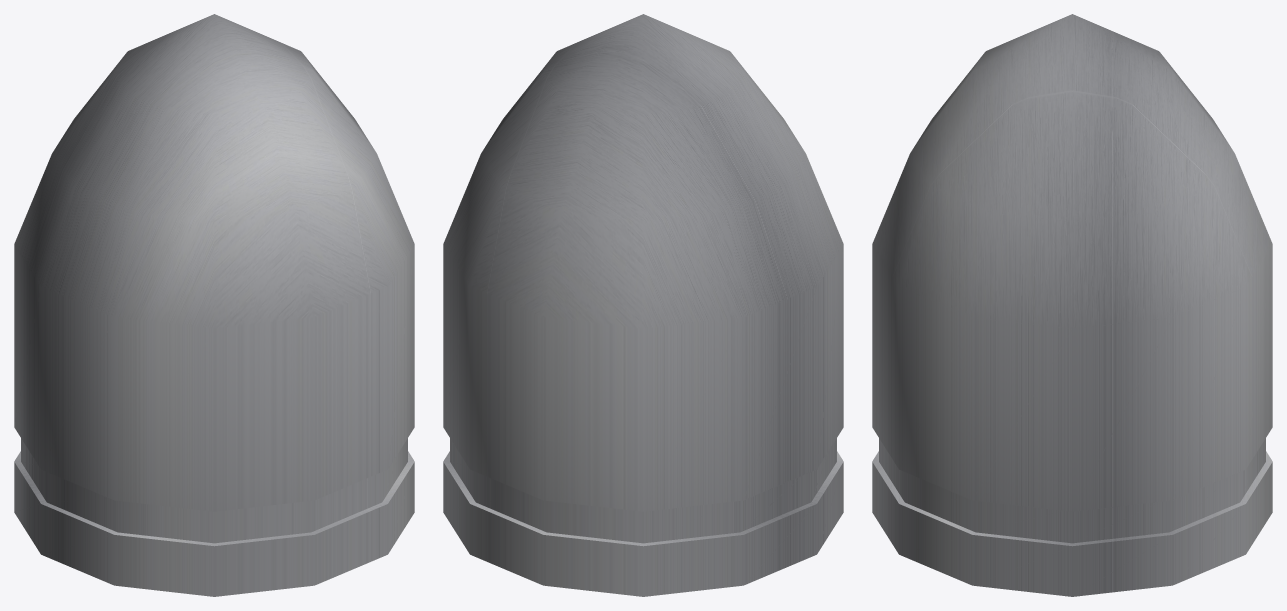
The model's file is Heavybullet.FBX.
The picture shows the model from 3 angles, left to right: view 1: azimuth 30°, elevation 25°; view 2: azimuth 150°, elevation 25°; view 3: azimuth 270°, elevation 25°; orthographic projection.
Visible parts, largest first — view 1: Sphere001; view 2: Sphere001; view 3: Sphere001.
Part boxes in pixels (box(x1,y1,x2,y2)): Sphere001: box(14, 14, 414, 596); Sphere001: box(443, 14, 843, 596); Sphere001: box(872, 14, 1272, 596).
Size of the model in its own units: 3.58 by 4.91 by 3.58.
1 material, 1 textured.
